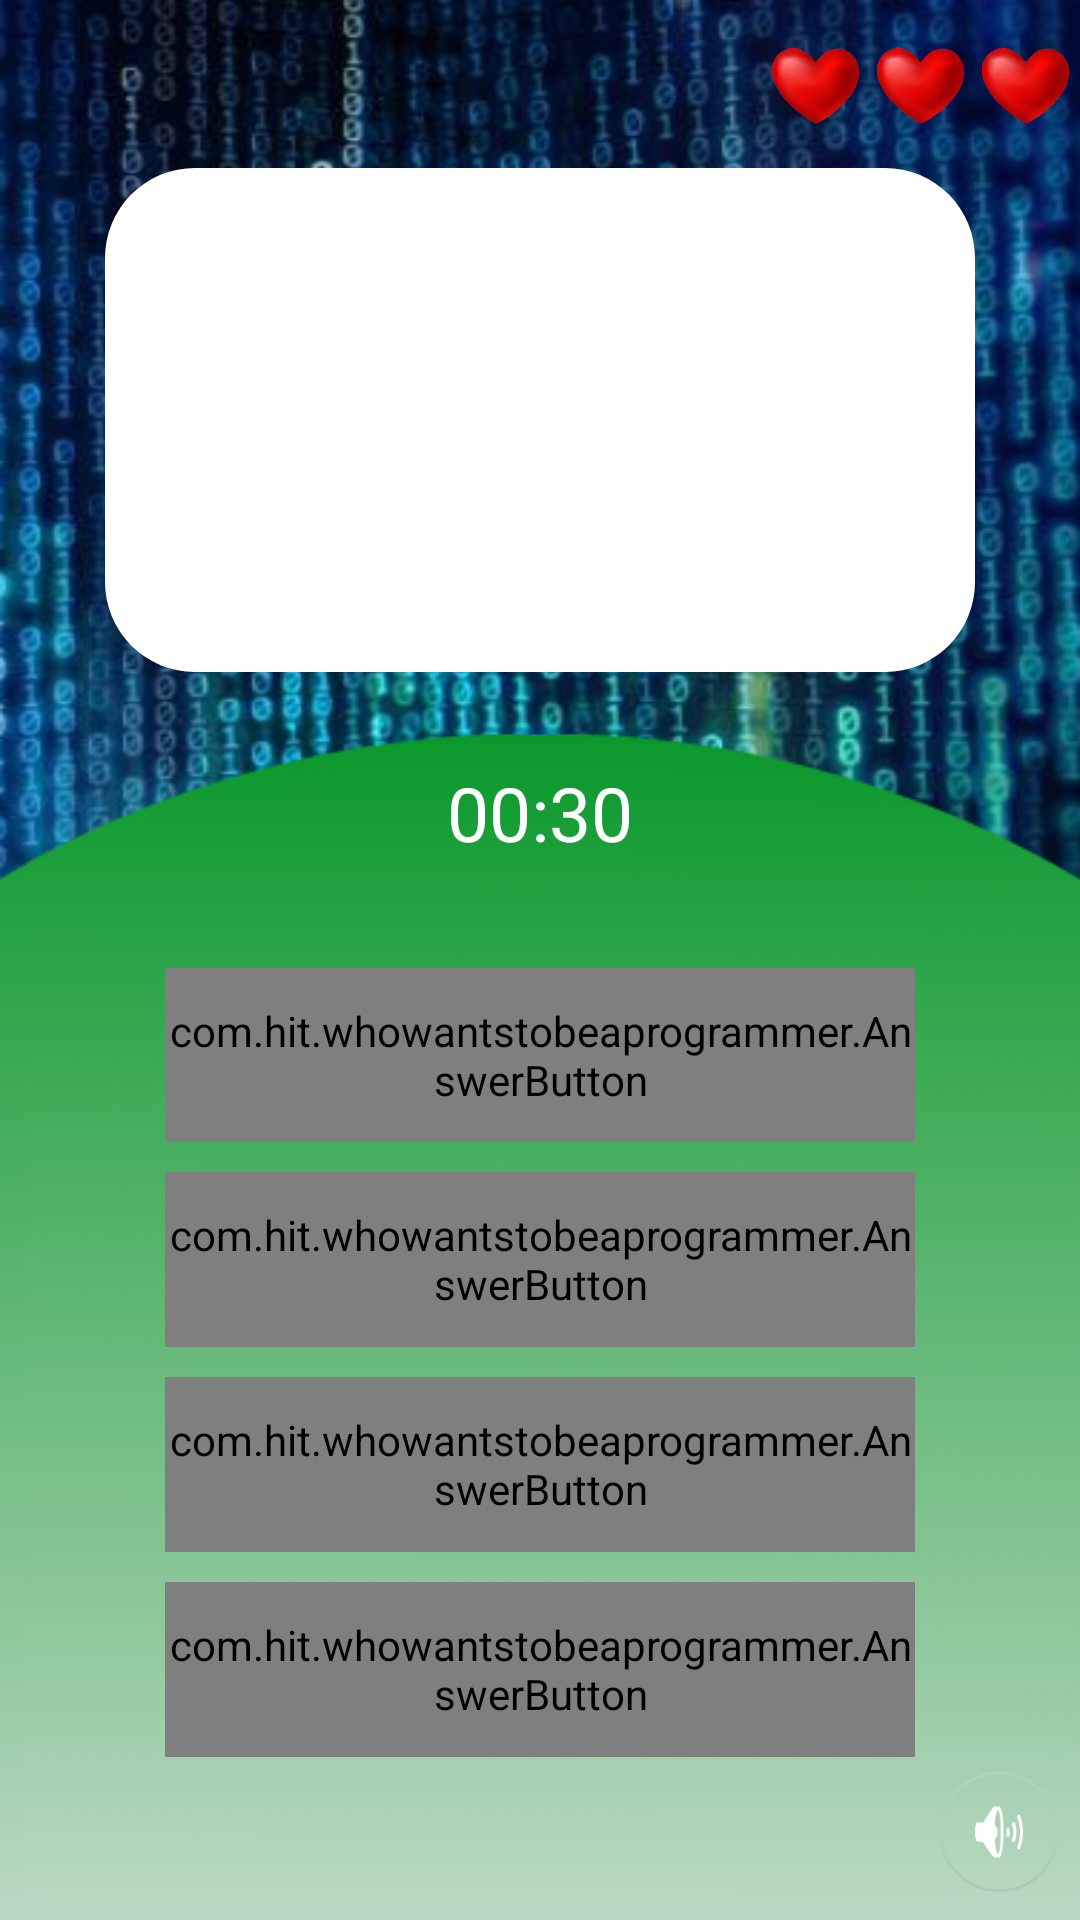

Point at icon controls on the screen. Image size 1080px×1920px, points as [x,y].
lev: [817,83], [922,83], [1027,83]
lock silent mode off: [999,1832]
